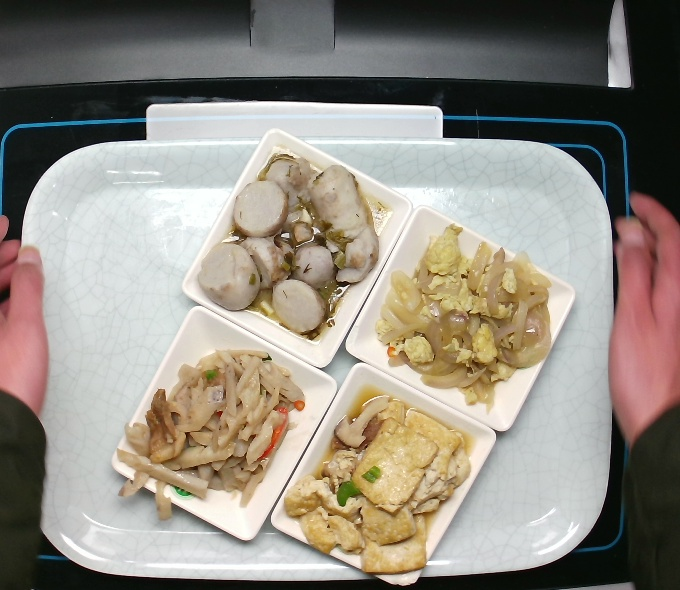wcq-JiaChangDouFu: (281, 391, 476, 580)
wcq-QingChaoOuPian: (110, 346, 313, 525)
wcq-YangCongChaoDan: (370, 221, 556, 415)
wcq-YangYu: (196, 146, 384, 346)
